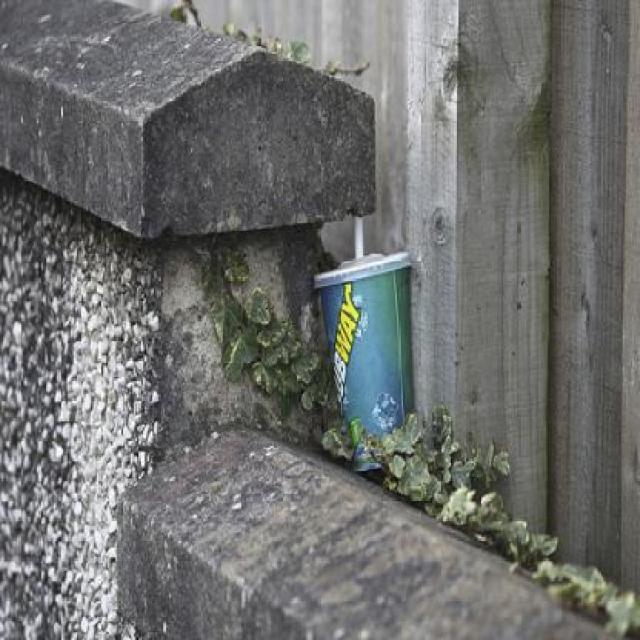garbage: (311, 220, 427, 482)
